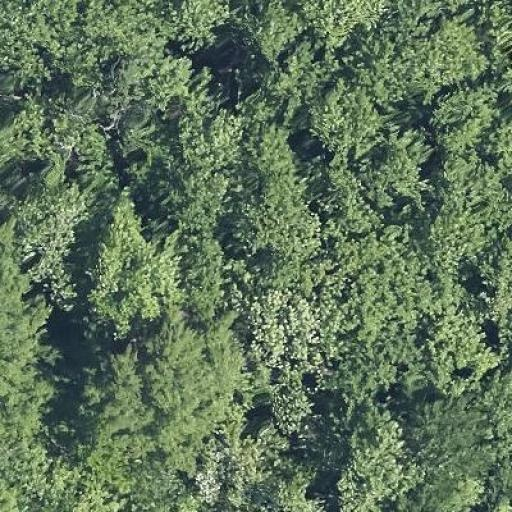tree-top: (76, 326, 246, 456), (77, 190, 191, 332), (426, 148, 510, 277), (346, 231, 435, 346), (329, 400, 421, 510), (0, 5, 105, 97), (0, 102, 113, 186), (0, 252, 44, 463), (247, 289, 345, 382), (410, 400, 498, 496), (236, 172, 327, 260), (178, 111, 246, 225), (380, 20, 470, 93), (361, 132, 437, 214), (24, 189, 80, 292), (306, 83, 383, 156), (202, 432, 281, 498), (427, 310, 487, 396), (182, 230, 233, 326), (88, 0, 169, 58), (430, 86, 492, 158), (118, 56, 203, 106), (165, 0, 237, 47), (138, 454, 195, 512), (307, 0, 384, 42), (250, 0, 306, 57)
